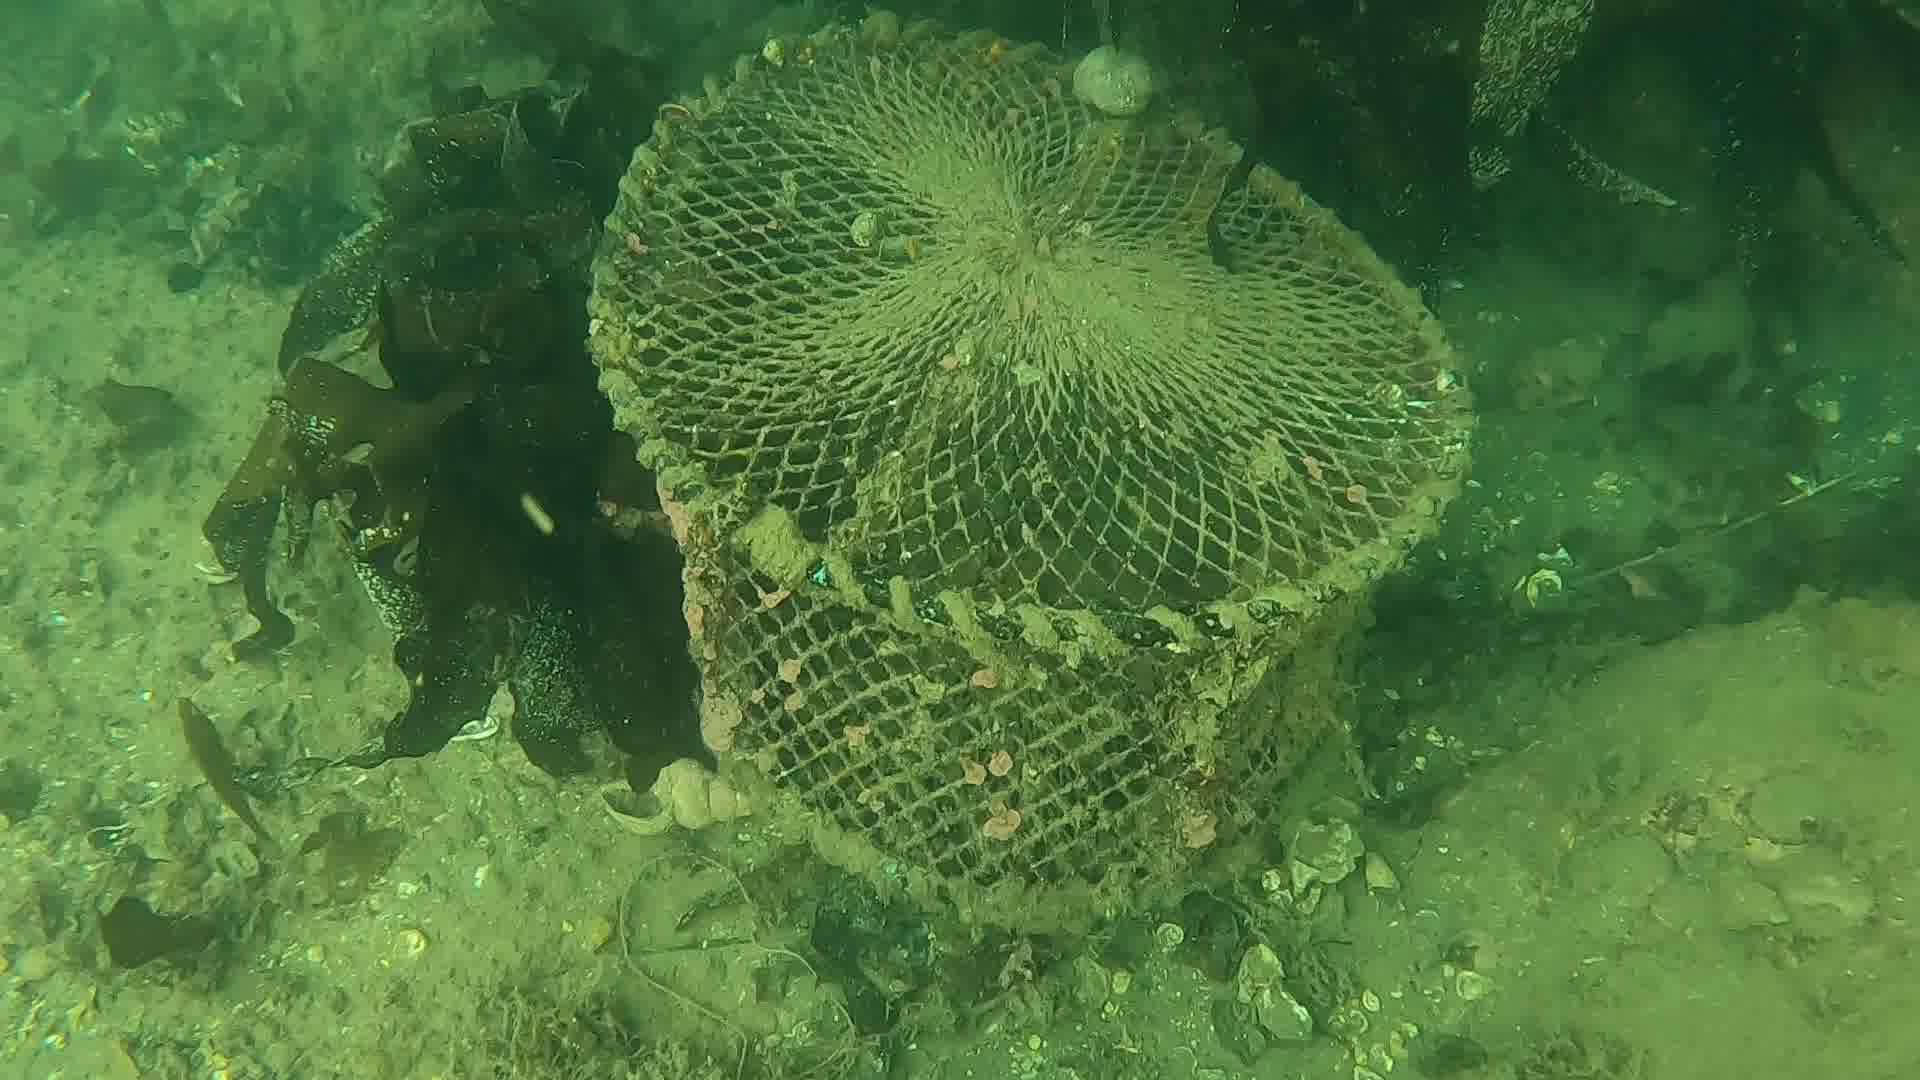circular fish trap: (576, 12, 1481, 939)
